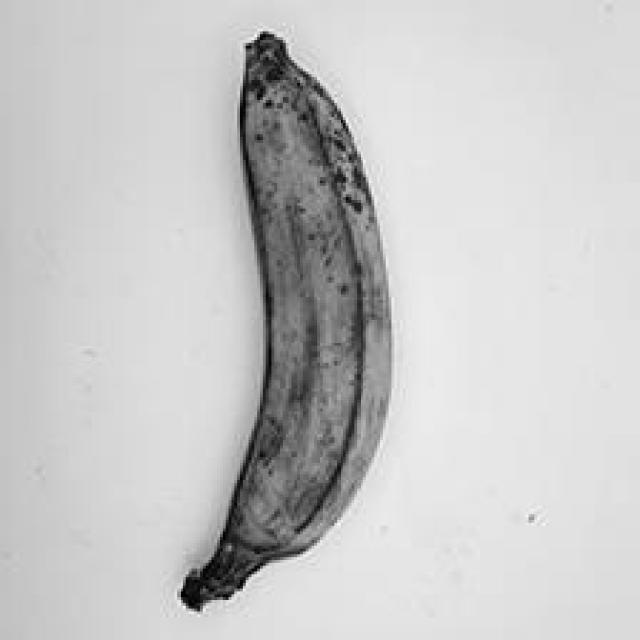Overripe: (162, 22, 431, 618)
